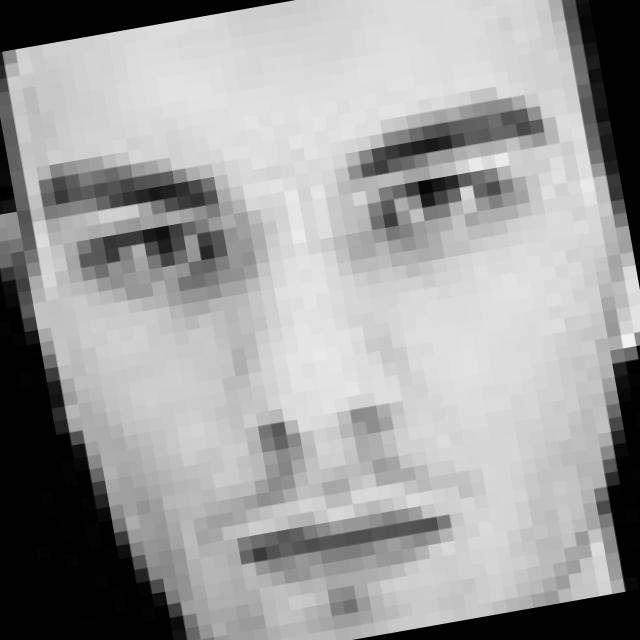neutral: (26, 75, 637, 640)
